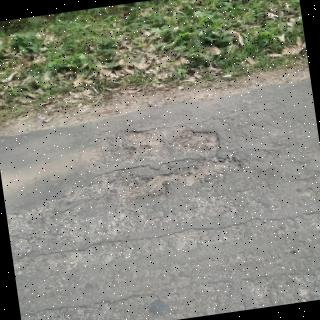pothole: (65, 125, 243, 203)
